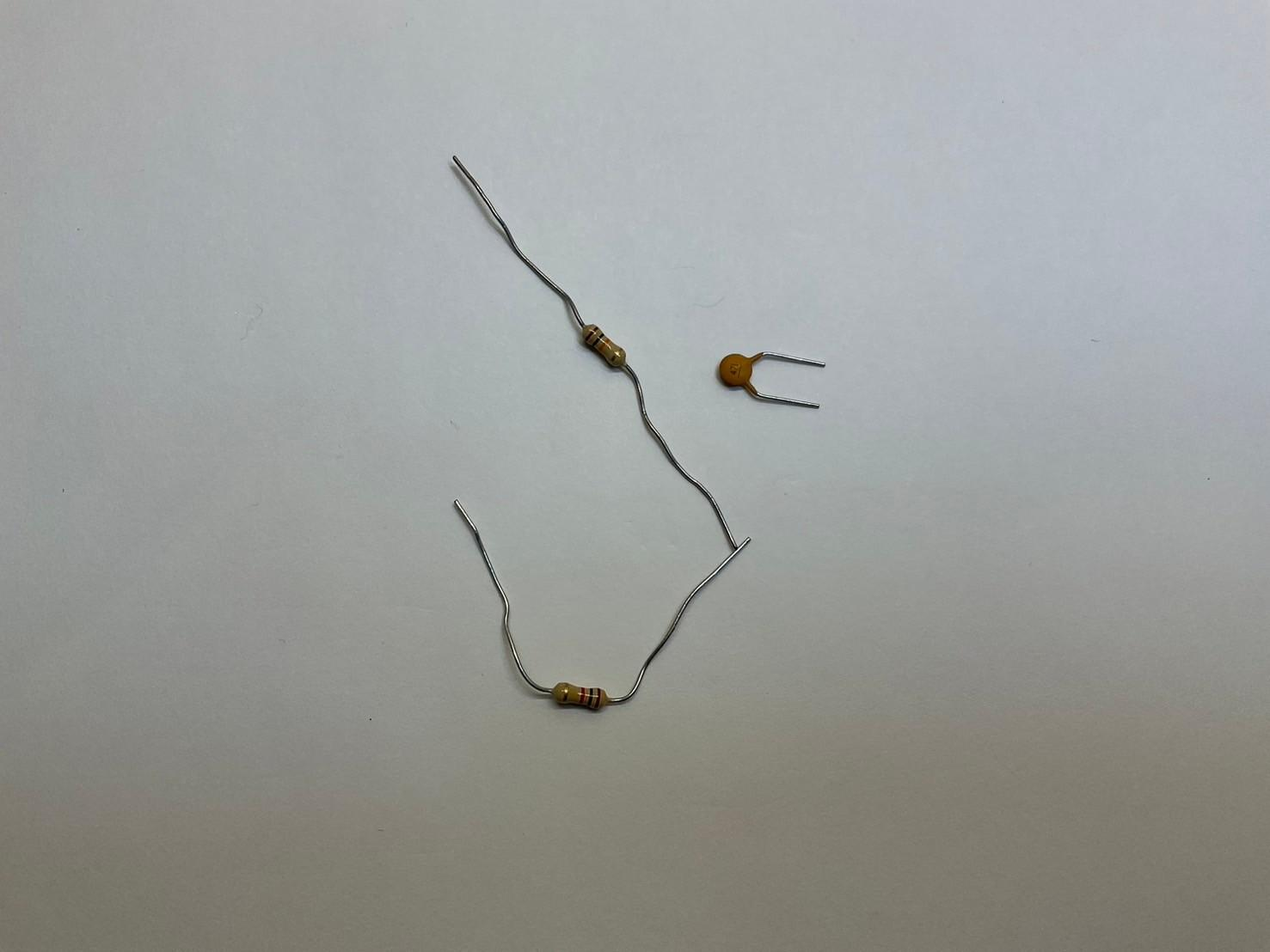resistor: (579, 322, 627, 371), (553, 681, 609, 710)
